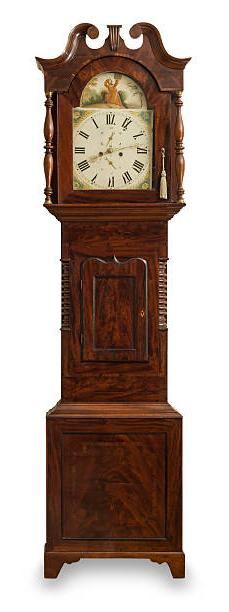clock: (73, 107, 148, 189)
